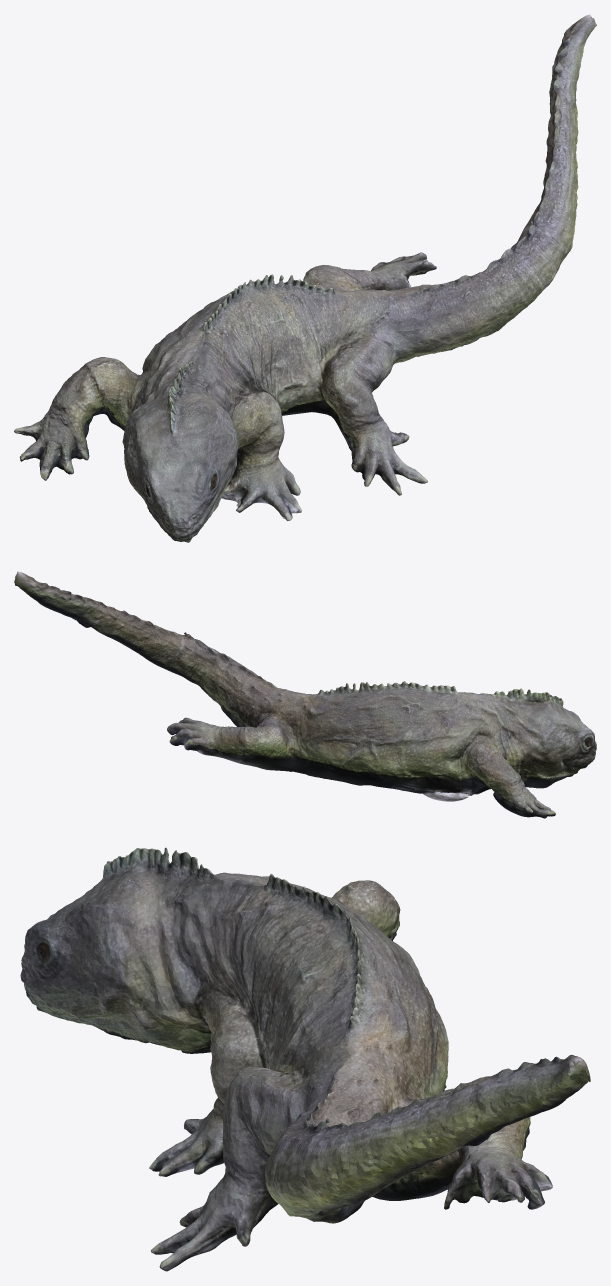
File: Living_fossils_trial.obj
The picture shows the model from 3 angles, top to bottom: view 1: azimuth 30°, elevation 25°; view 2: azimuth 150°, elevation 25°; view 3: azimuth 270°, elevation 25°; orthographic projection. The views are drawn at different scales.
Size of the model in its own units: 7.96 by 3.43 by 4.08.
Materials: 1 (1 with a texture image).
